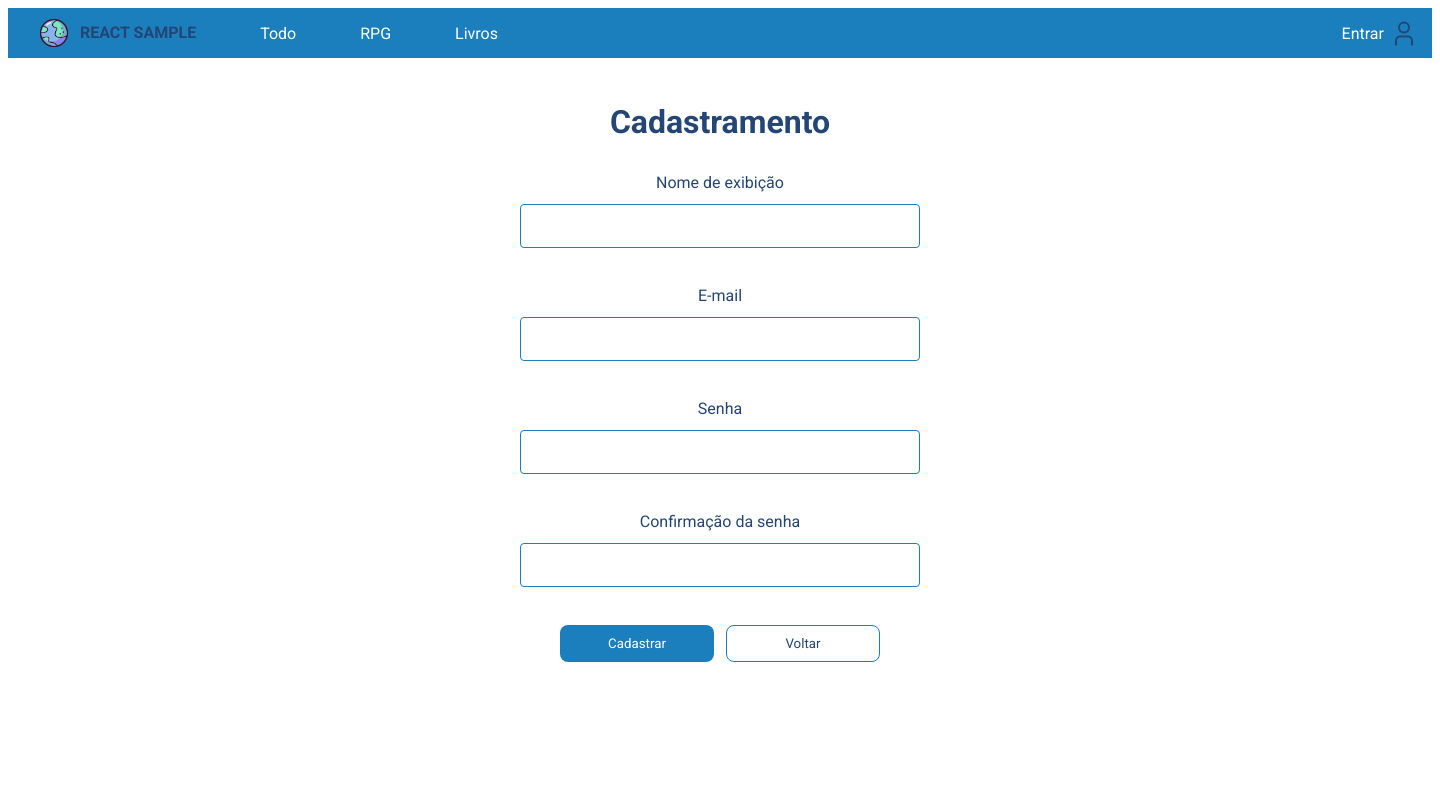
RegisterPage › deve exibir mensagem de erro se número máximo de exibição for maior que 12
Type "1234567890123" into the field titled "displayName" at (720, 226), box left=520, top=204, right=920, bottom=248
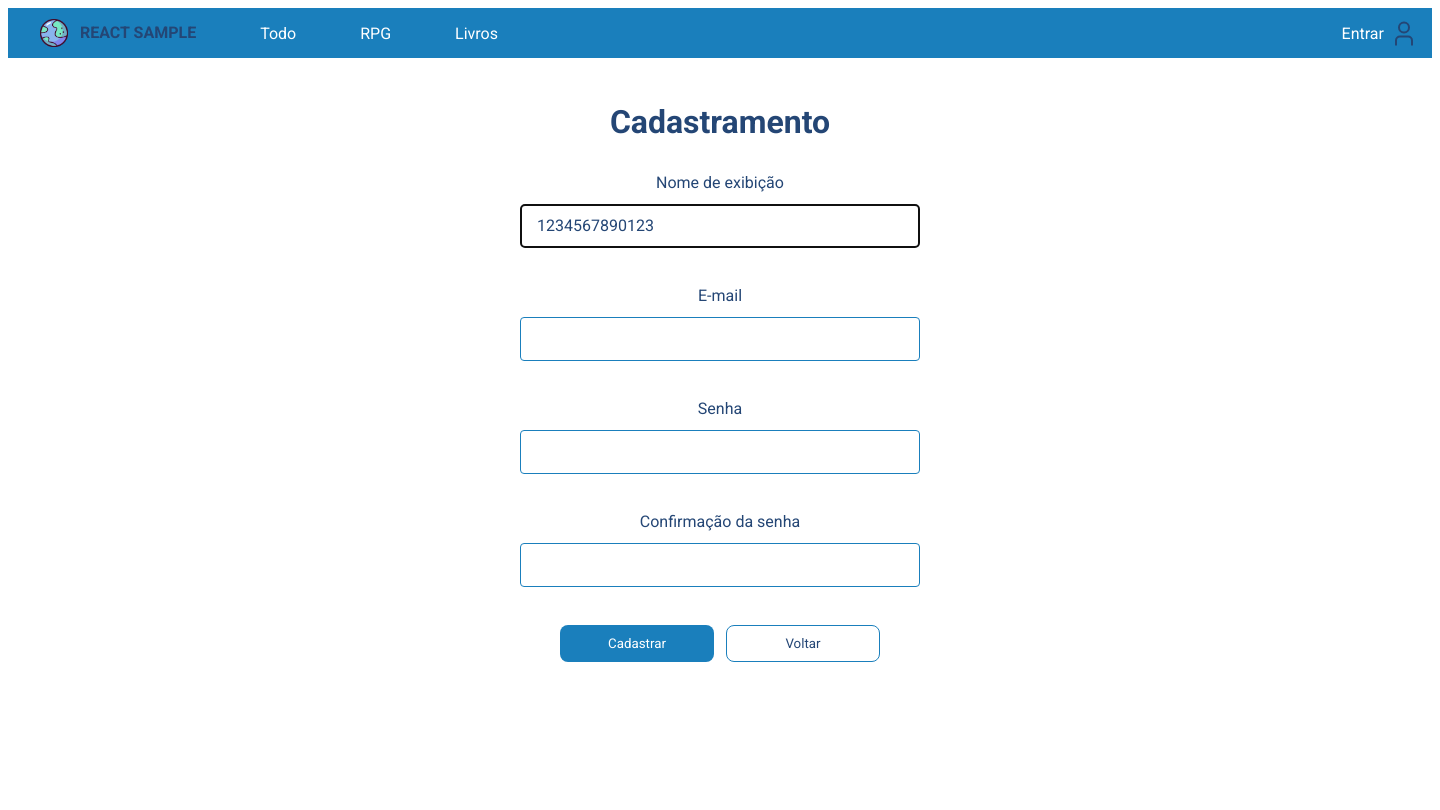
Click the button "Cadastrar" at (637, 643), box left=560, top=625, right=714, bottom=662
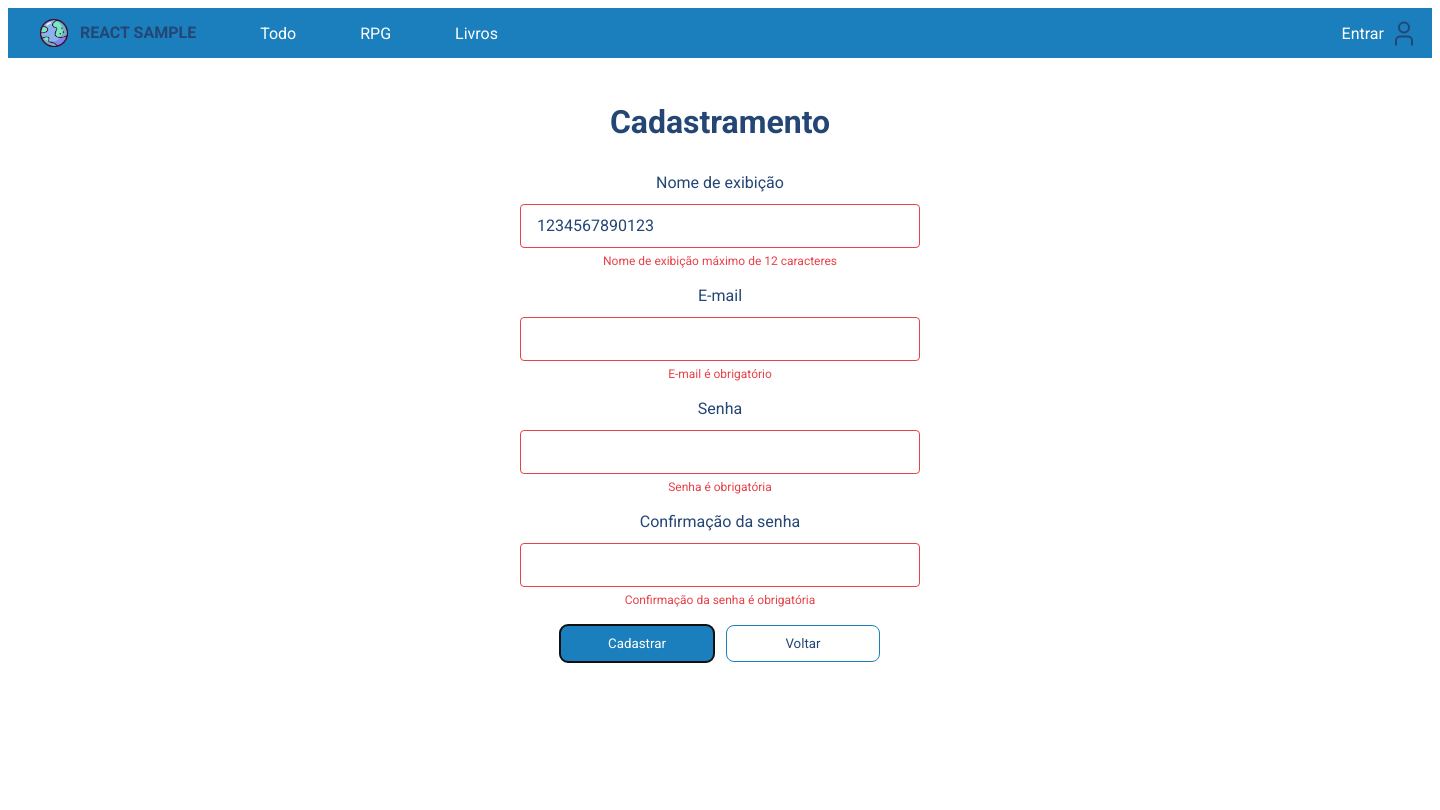
Expected: the text "Nome de exibição máximo de 12 caracteres" is shown, left=603, top=254, right=837, bottom=268
